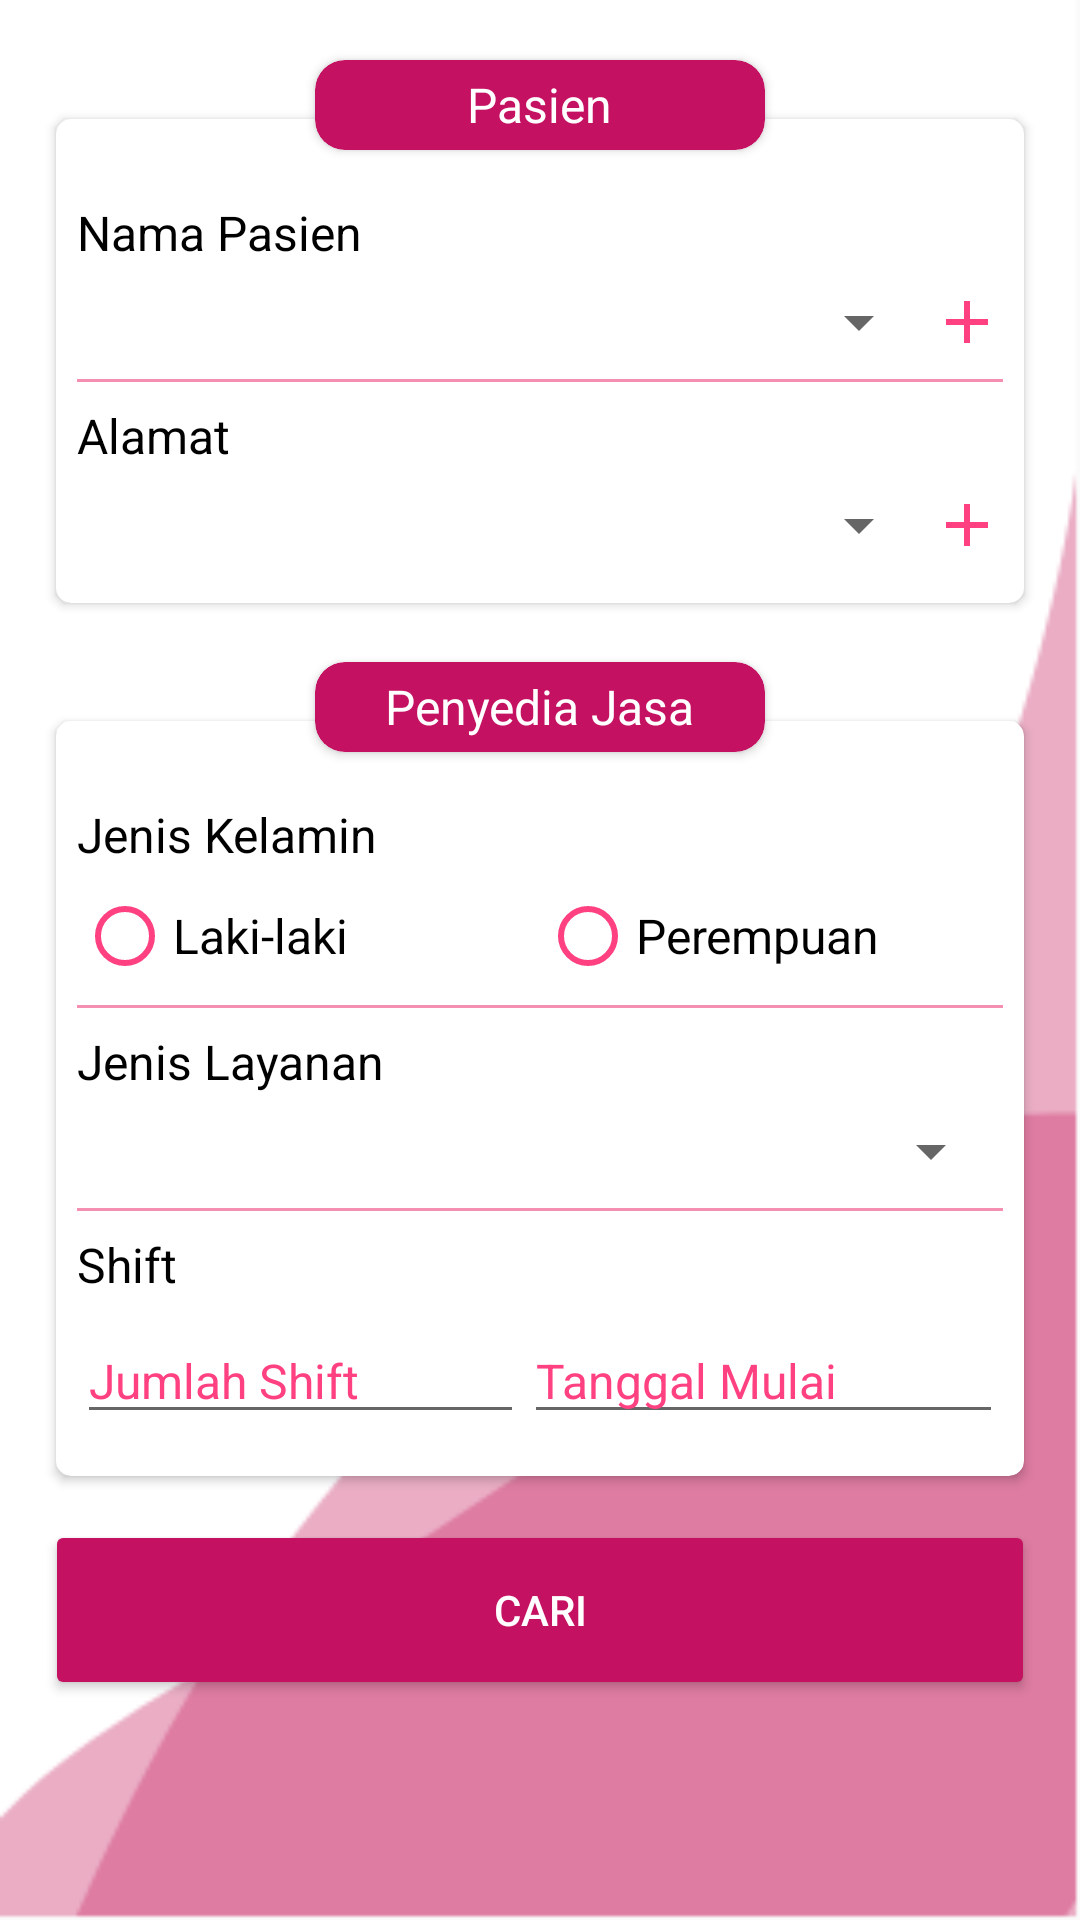

Locate icon controls on the screen. Image size 1080 × 1920, boxes as rect(x1, y1, x2, y2).
add: rect(946, 301, 988, 343), rect(946, 504, 988, 546)
